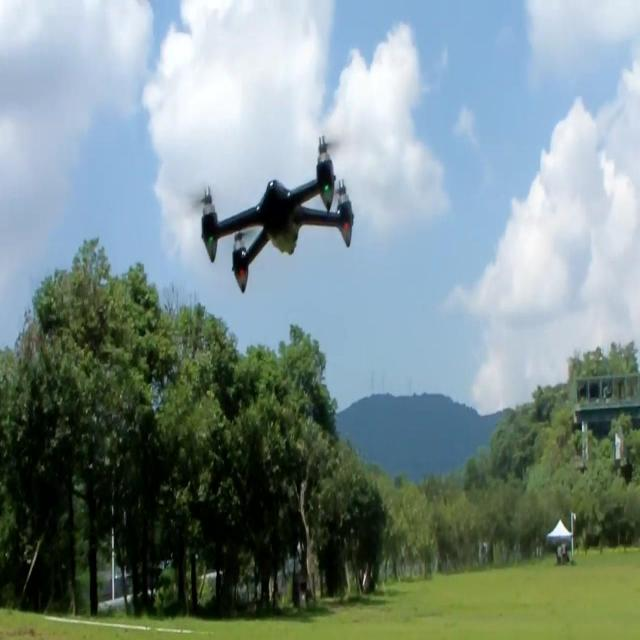UAV: (199, 136, 355, 292)
